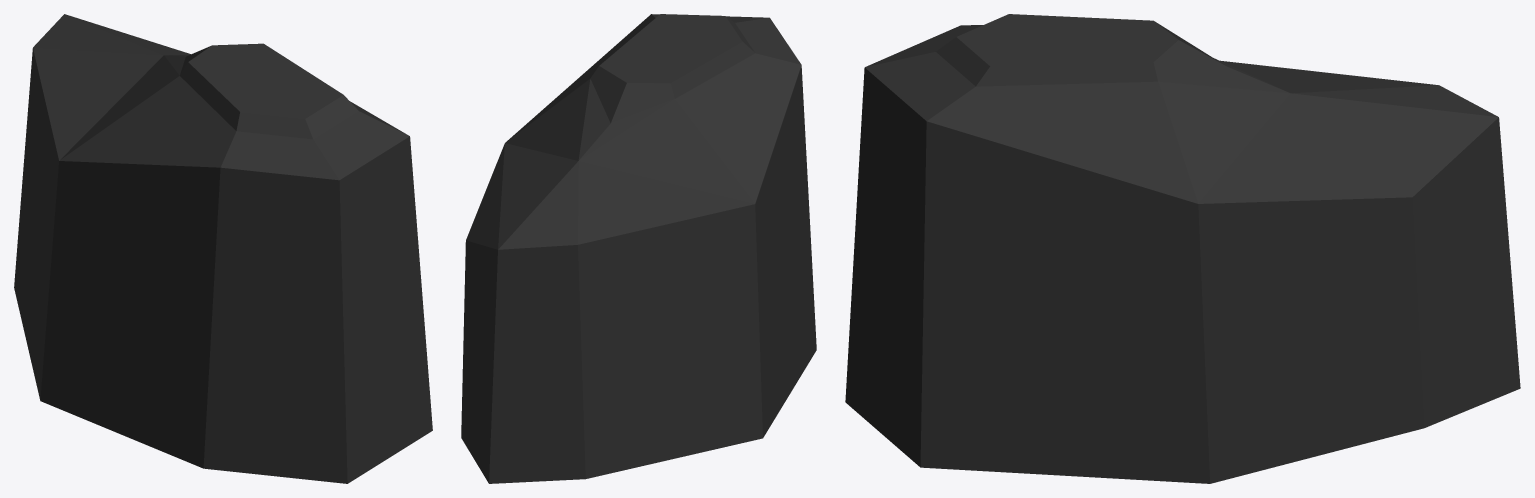
File: RockLarge_3.fbx
3 views of the same model, side by side, from view 1: azimuth 30°, elevation 25°; view 2: azimuth 150°, elevation 25°; view 3: azimuth 270°, elevation 25° (orthographic). The views are drawn at different scales.
Parts seen in each view (by area): view 1: RockLarge_3; view 2: RockLarge_3; view 3: RockLarge_3.
Part boxes in pixels (x1,y1,x2,y2): RockLarge_3: (14, 14, 432, 483); RockLarge_3: (461, 14, 816, 483); RockLarge_3: (845, 14, 1520, 483).
Bounding box in the file's own units: 624 × 664 × 1100.
